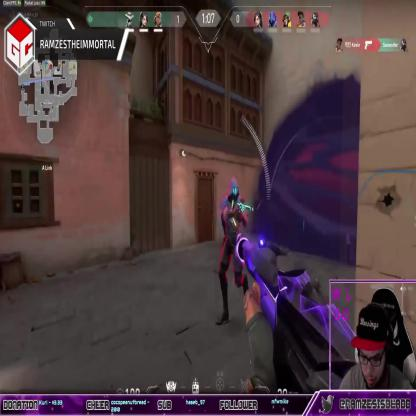enemy: (216, 179, 256, 330)
enemy_head: (227, 177, 240, 201)
